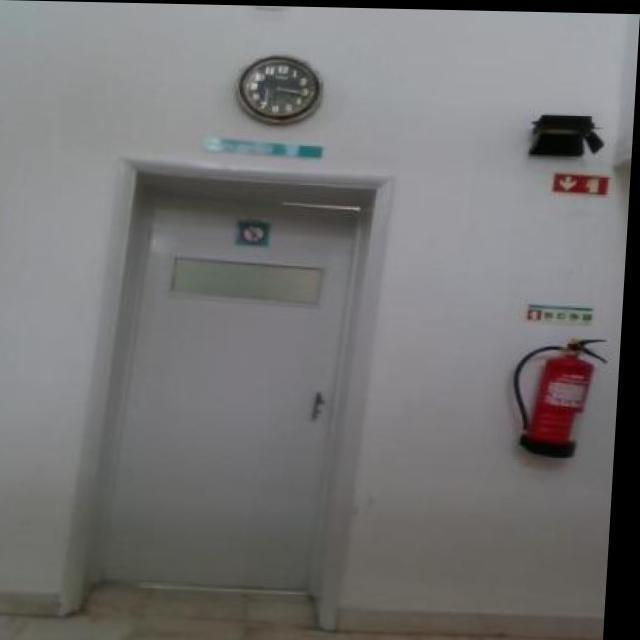door_handle: (308, 386, 333, 433)
